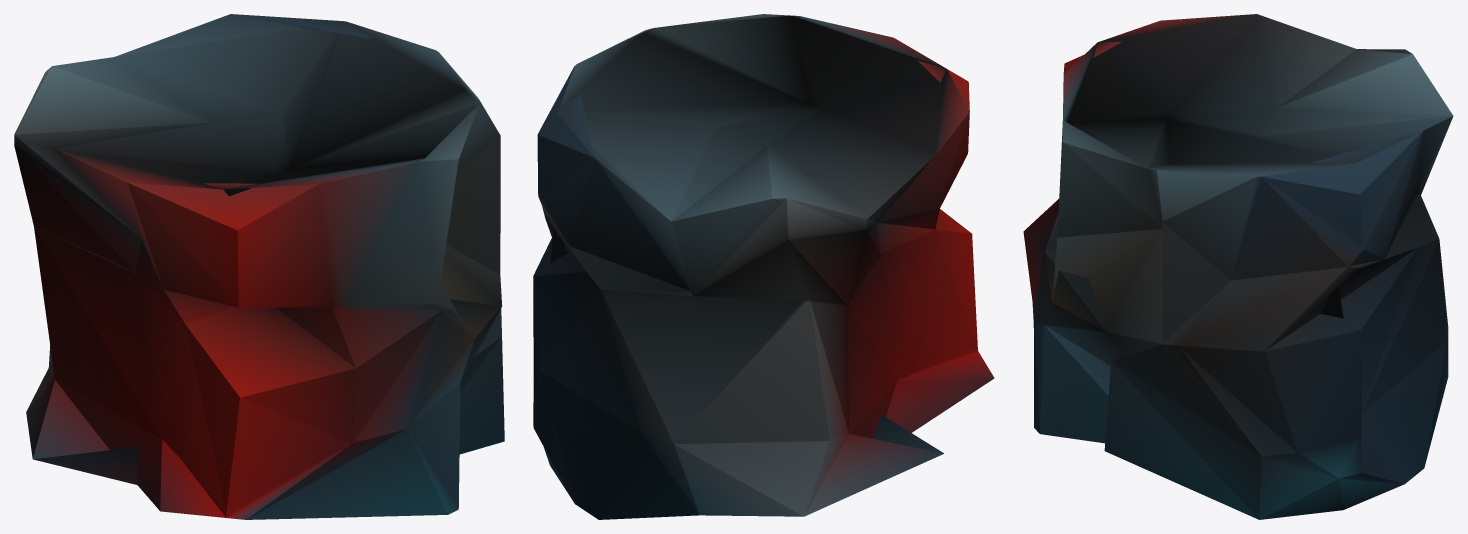
The picture shows the model from 3 angles, left to right: view 1: azimuth 30°, elevation 25°; view 2: azimuth 150°, elevation 25°; view 3: azimuth 270°, elevation 25°; orthographic projection. The views are drawn at different scales.
Size of the model in its own units: 0.9 by 0.8 by 0.9.
